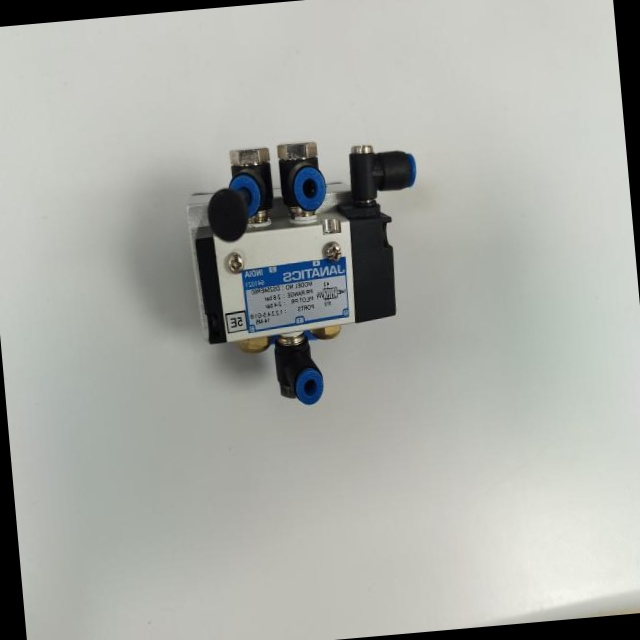5by2 DCV: (169, 110, 446, 426)
